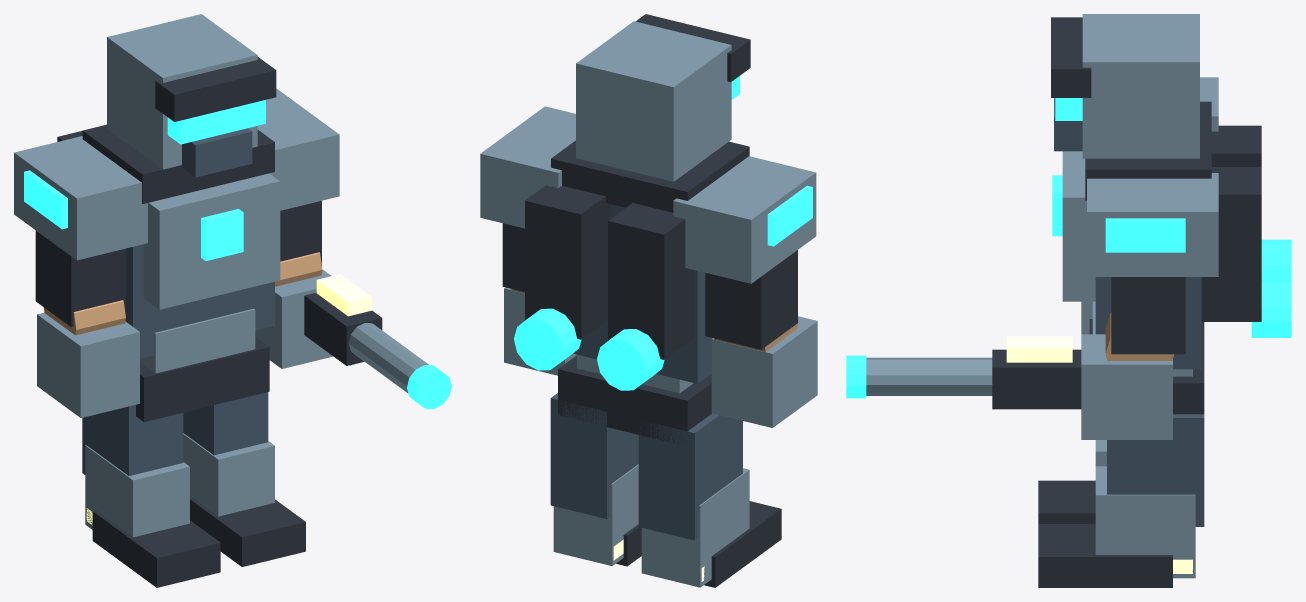
Rendered from field_guardian.glb.
3 renders of one model, left to right at view 1: azimuth 30°, elevation 25°; view 2: azimuth 150°, elevation 25°; view 3: azimuth 270°, elevation 25°, orthographic. The views are drawn at different scales.
Visible parts, largest first — view 1: GUARDIAN chamfered chest plate, GUARDIAN helmet shell, GUARDIAN angular shoulder pad, GUARDIAN gauntlet, GUARDIAN shin armor, GUARDIAN angular shoulder pad.001, GUARDIAN hip armour, GUARDIAN armored boot, GUARDIAN articulated upper arm, GUARDIAN shin armor.001, GUARDIAN aerodynamically shaped torso, GUARDIAN multi-joint upper leg (+17 smaller); view 2: GUARDIAN helmet shell, GUARDIAN angular shoulder pad, GUARDIAN compact jetpack housing.001, GUARDIAN compact jetpack housing, GUARDIAN multi-joint upper leg, GUARDIAN gauntlet, GUARDIAN multi-joint upper leg.001, GUARDIAN angular shoulder pad.001, GUARDIAN hip armour, GUARDIAN articulated upper arm, GUARDIAN shin armor, GUARDIAN protective upper collar (+11 smaller); view 3: GUARDIAN helmet shell, GUARDIAN angular shoulder pad.001, GUARDIAN gauntlet.001, GUARDIAN compact jetpack housing.001, GUARDIAN shin armor.001, GUARDIAN multi-joint upper leg.001, GUARDIAN armored boot.001, GUARDIAN articulated upper arm.001, GUARDIAN ion cannon barrel, GUARDIAN weapon main receiver, GUARDIAN chamfered chest plate, GUARDIAN protective upper collar (+15 smaller).
Boxes of the visible parts, x1=… form: GUARDIAN chamfered chest plate: x1=143, y1=173, x2=280, y2=309; GUARDIAN helmet shell: x1=107, y1=14, x2=257, y2=169; GUARDIAN angular shoulder pad: x1=14, y1=136, x2=147, y2=260; GUARDIAN gauntlet: x1=37, y1=313, x2=139, y2=417; GUARDIAN shin armor: x1=85, y1=445, x2=189, y2=537; GUARDIAN angular shoulder pad.001: x1=257, y1=88, x2=339, y2=210; GUARDIAN hip armour: x1=136, y1=337, x2=269, y2=422; GUARDIAN armored boot: x1=92, y1=510, x2=220, y2=587; GUARDIAN articulated upper arm: x1=35, y1=230, x2=125, y2=327; GUARDIAN shin armor.001: x1=183, y1=433, x2=274, y2=516; GUARDIAN aerodynamically shaped torso: x1=125, y1=244, x2=274, y2=358; GUARDIAN multi-joint upper leg: x1=82, y1=405, x2=183, y2=475; GUARDIAN helmet shell: x1=576, y1=21, x2=731, y2=181; GUARDIAN angular shoulder pad: x1=673, y1=156, x2=816, y2=283; GUARDIAN compact jetpack housing.001: x1=525, y1=185, x2=610, y2=339; GUARDIAN compact jetpack housing: x1=608, y1=203, x2=693, y2=359; GUARDIAN multi-joint upper leg: x1=638, y1=413, x2=742, y2=540; GUARDIAN gauntlet: x1=711, y1=316, x2=817, y2=427; GUARDIAN multi-joint upper leg.001: x1=550, y1=393, x2=638, y2=518; GUARDIAN angular shoulder pad.001: x1=480, y1=106, x2=575, y2=228; GUARDIAN hip armour: x1=558, y1=355, x2=711, y2=444; GUARDIAN articulated upper arm: x1=705, y1=250, x2=797, y2=349; GUARDIAN shin armor: x1=641, y1=468, x2=749, y2=587; GUARDIAN protective upper collar: x1=551, y1=140, x2=749, y2=212; GUARDIAN helmet shell: x1=1082, y1=14, x2=1199, y2=158; GUARDIAN angular shoulder pad.001: x1=1087, y1=173, x2=1218, y2=276; GUARDIAN gauntlet.001: x1=1081, y1=334, x2=1172, y2=439; GUARDIAN compact jetpack housing.001: x1=1201, y1=167, x2=1261, y2=321; GUARDIAN shin armor.001: x1=1095, y1=466, x2=1195, y2=578; GUARDIAN multi-joint upper leg.001: x1=1107, y1=414, x2=1204, y2=526; GUARDIAN armored boot.001: x1=1038, y1=524, x2=1172, y2=587; GUARDIAN articulated upper arm.001: x1=1111, y1=277, x2=1185, y2=354; GUARDIAN ion cannon barrel: x1=866, y1=357, x2=992, y2=395; GUARDIAN weapon main receiver: x1=992, y1=349, x2=1081, y2=409; GUARDIAN chamfered chest plate: x1=1062, y1=151, x2=1095, y2=301; GUARDIAN protective upper collar: x1=1085, y1=101, x2=1211, y2=200.
Size of the model in its own units: 1.16 by 1.97 by 1.55.
